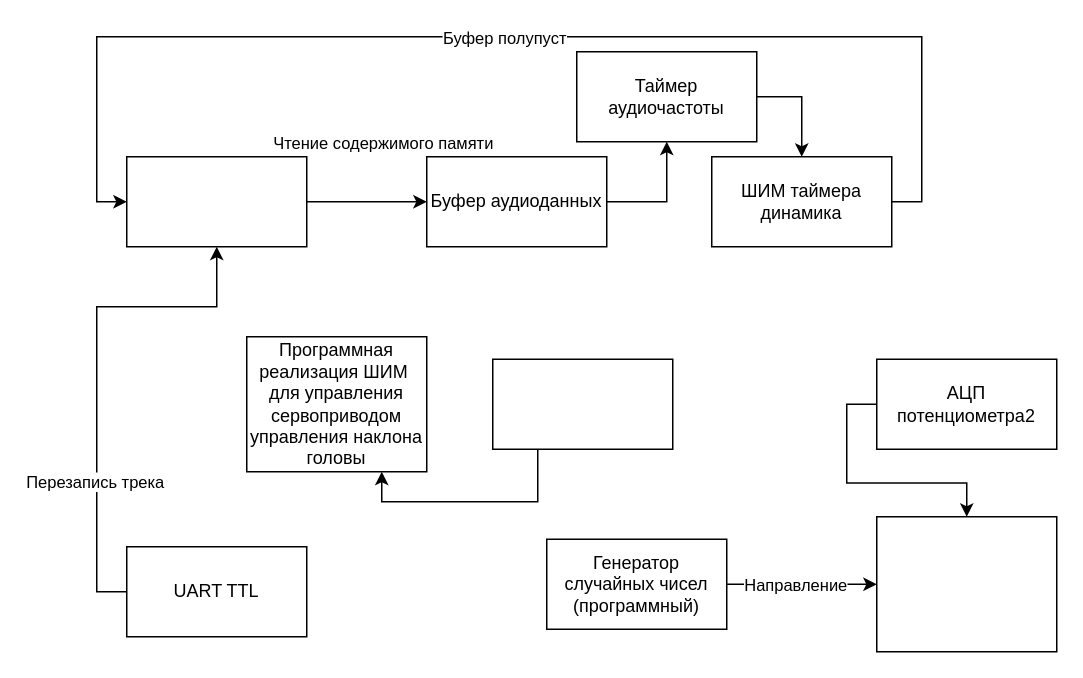
This 1083x678 diagram has some shape labels left out. The centre of each missing label's shape, as x and y in pixels:
"SPI NAND W25Q" belongs at point (216, 201).
"АЦП потенциометра1" belongs at point (582, 403).
"ШИМ таймера для управления сервоприводов управления направлением движения" belongs at point (966, 583).
